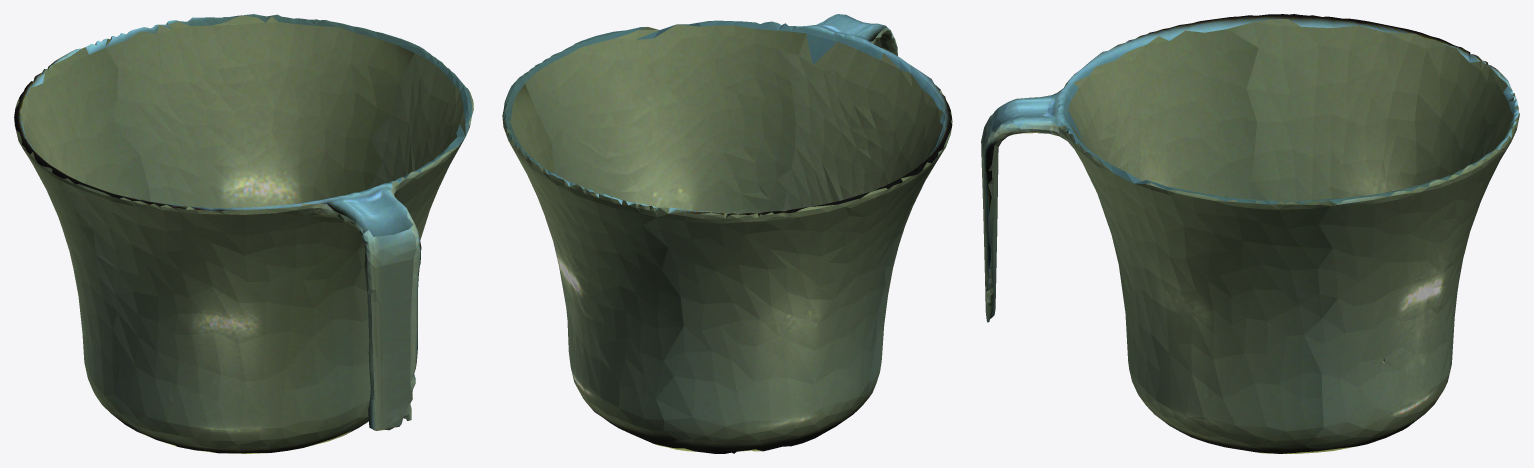
The model's file is greencup.obj.
3 renders of one model, left to right at view 1: azimuth 30°, elevation 25°; view 2: azimuth 150°, elevation 25°; view 3: azimuth 270°, elevation 25°, orthographic. The views are drawn at different scales.
Parts seen in each view (by area): view 1: GreenCup_5k_tex:Mesh; view 2: GreenCup_5k_tex:Mesh; view 3: GreenCup_5k_tex:Mesh.
Part boxes in pixels (left/top/right/bottom): GreenCup_5k_tex:Mesh: left=14, top=14, right=473, bottom=453; GreenCup_5k_tex:Mesh: left=502, top=14, right=952, bottom=453; GreenCup_5k_tex:Mesh: left=981, top=14, right=1519, bottom=453.
Size of the model in its own units: 112 by 80.74 by 130.
1 material, 1 textured.
